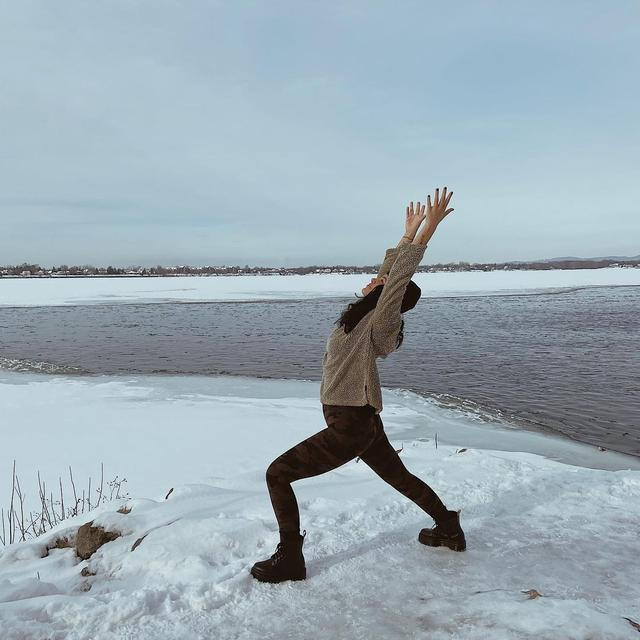Warrior_I: (243, 180, 476, 585)
